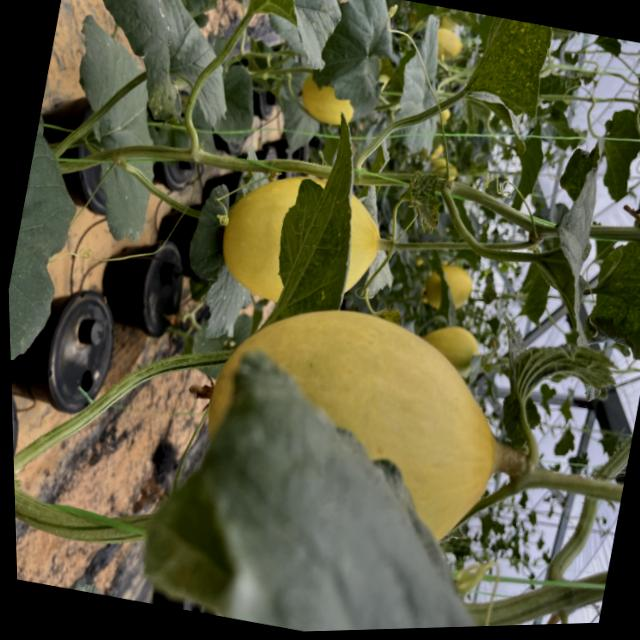CMV: (393, 165, 456, 235)
alternaria leaf blight: (526, 134, 614, 337)
downy mildew: (248, 99, 384, 334), (69, 0, 258, 137), (563, 192, 640, 374), (454, 9, 558, 125), (247, 0, 328, 55)
